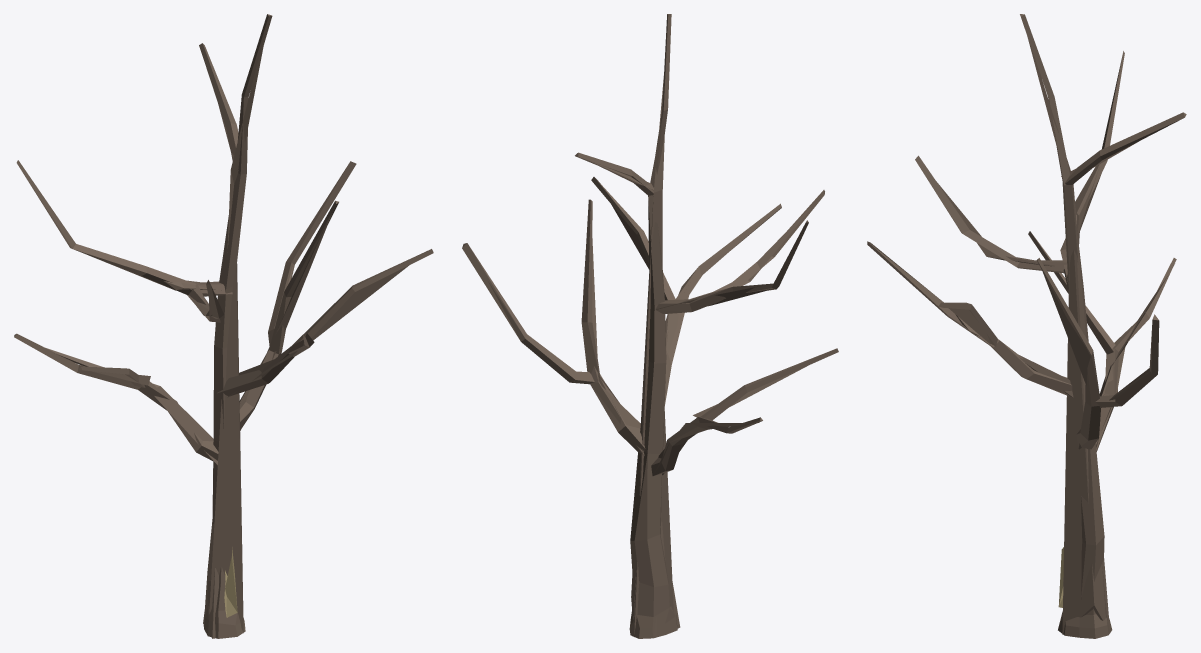
File: M-Tree 3 Log.fbx
3 renders of one model, left to right at view 1: azimuth 30°, elevation 25°; view 2: azimuth 150°, elevation 25°; view 3: azimuth 270°, elevation 25°, orthographic. The views are drawn at different scales.
Parts seen in each view (by area): view 1: Tree_1_2_LOD2; view 2: Tree_1_2_LOD2; view 3: Tree_1_2_LOD2.
Boxes of the visible parts, x1=… form: Tree_1_2_LOD2: x1=14, y1=14, x2=433, y2=638; Tree_1_2_LOD2: x1=462, y1=14, x2=838, y2=638; Tree_1_2_LOD2: x1=867, y1=14, x2=1186, y2=638.
Size of the model in its own units: 544 by 928 by 431.
